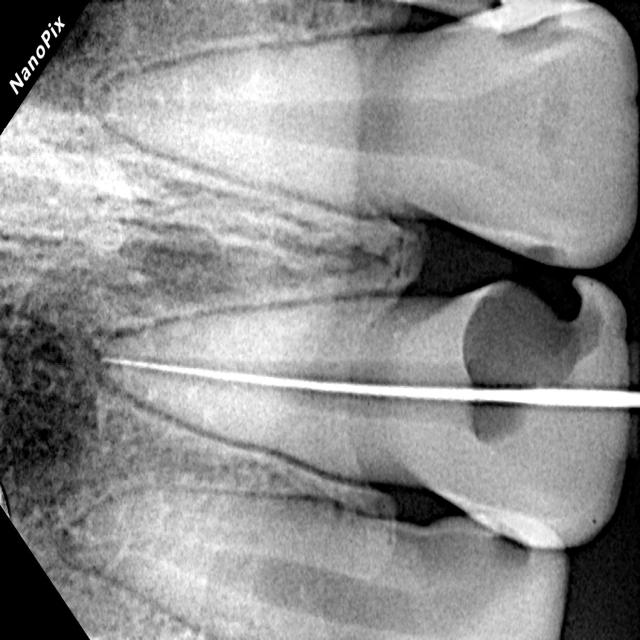karies: (447, 235, 606, 467)
